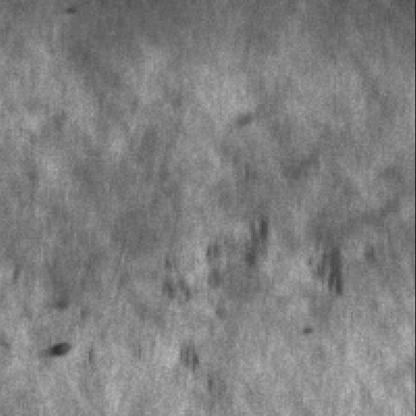rolled-in_scale: (154, 214, 347, 312)
